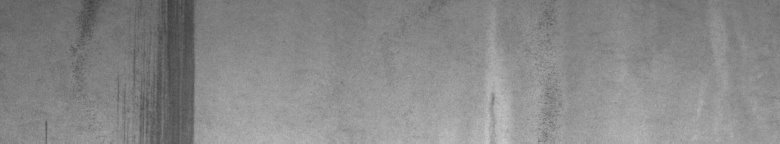ka: (44, 4, 201, 136)
